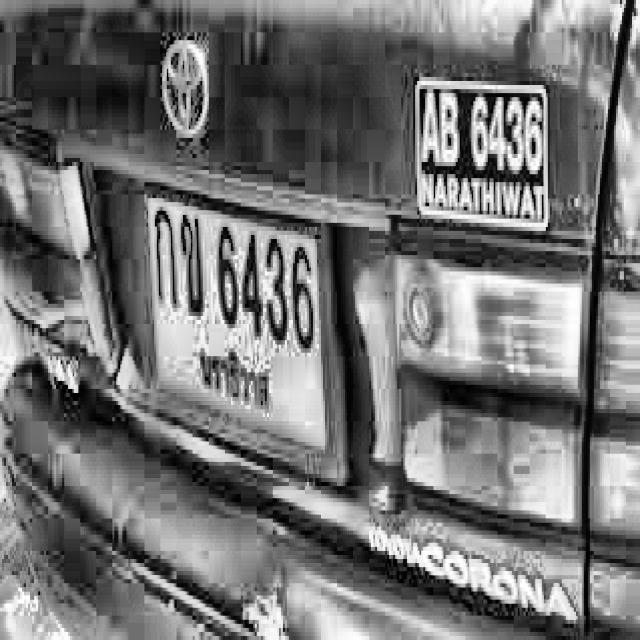license-plate: (140, 173, 350, 496)
